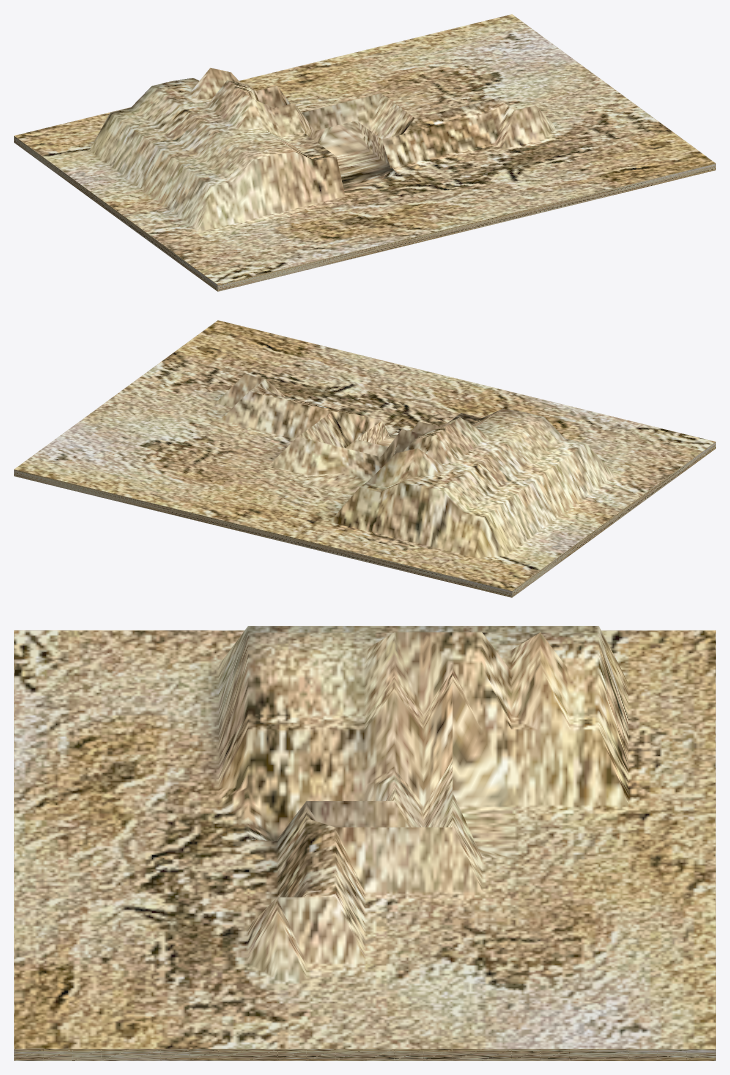
Rendered from test_map_obj.obj.
3 renders of one model, top to bottom at view 1: azimuth 30°, elevation 25°; view 2: azimuth 150°, elevation 25°; view 3: azimuth 270°, elevation 25°, orthographic. The views are drawn at different scales.
Parts seen in each view (by area): view 1: Box001; view 2: Box001; view 3: Box001.
Part boxes in pixels (bbox=[...]): Box001: bbox=[14, 14, 715, 291]; Box001: bbox=[14, 320, 715, 597]; Box001: bbox=[14, 626, 715, 1060].
Bounding box in the file's own units: 124 × 18.22 × 87.8.
1 material, 1 textured.
